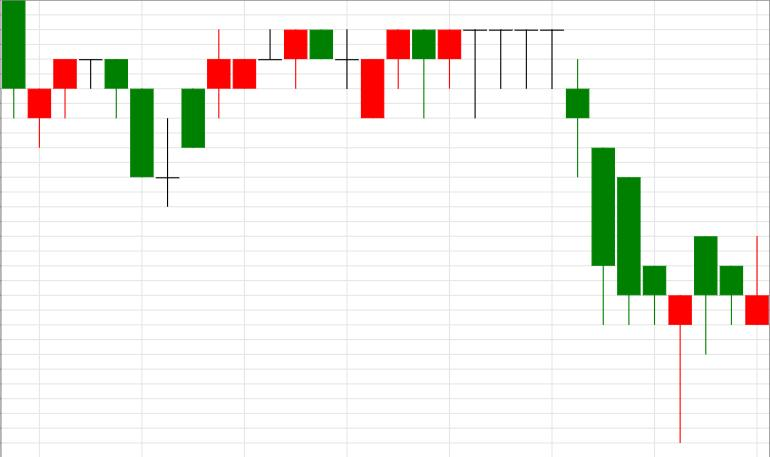hammer_rise: (566, 58, 692, 443)
